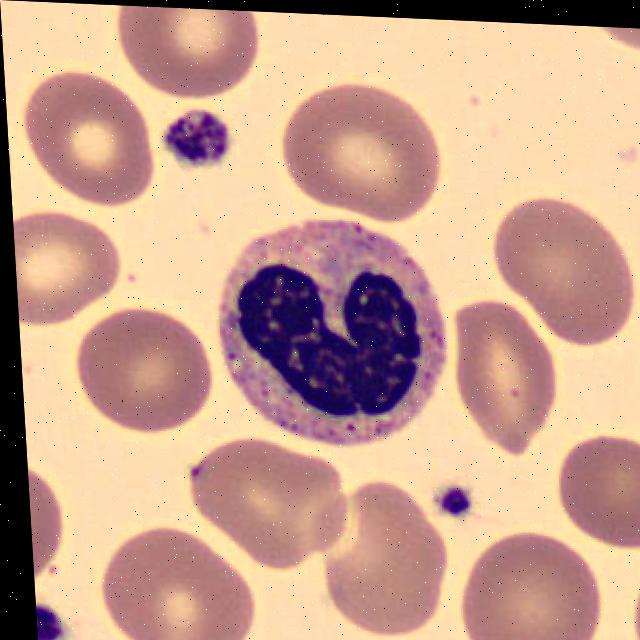neutrophil: (204, 209, 465, 471)
platelets: (152, 94, 234, 181), (35, 599, 64, 640)
rbc: (190, 429, 359, 586), (273, 71, 444, 221), (484, 190, 640, 350), (310, 470, 454, 637), (85, 523, 278, 640), (454, 292, 574, 468), (74, 304, 227, 433), (28, 62, 159, 205), (456, 530, 613, 640), (110, 5, 272, 106), (12, 195, 125, 328), (554, 427, 640, 554), (26, 443, 72, 590), (576, 26, 640, 63), (632, 551, 640, 640)
